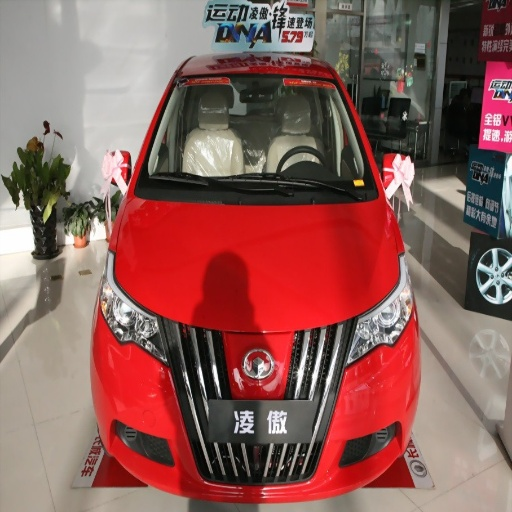front_bumper: (97, 317, 419, 503)
front_right_light: (98, 280, 169, 365)
hood: (114, 196, 397, 329)
